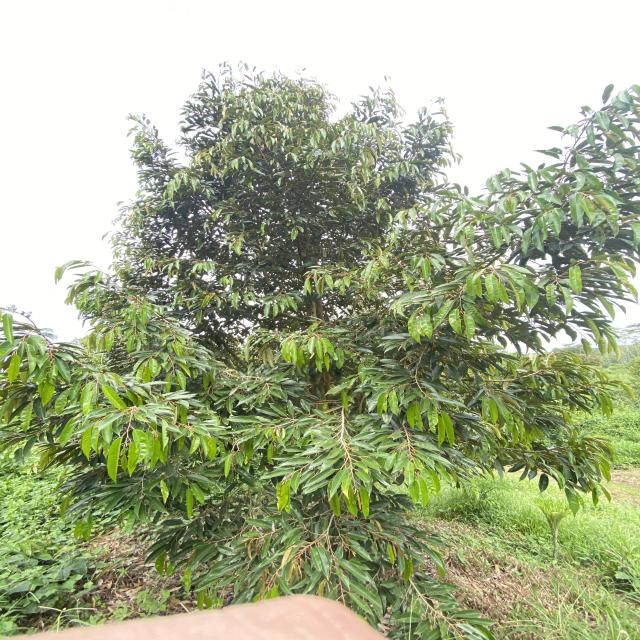Tree: (81, 61, 578, 548)
